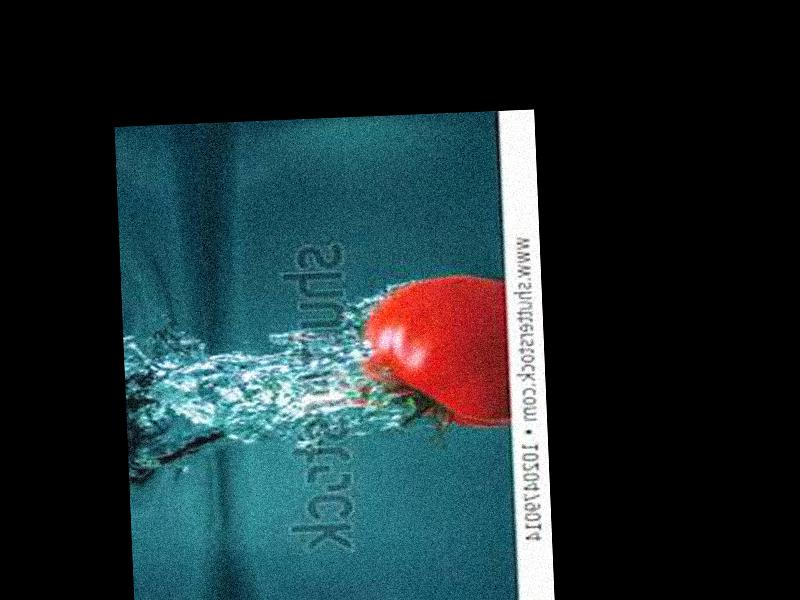Tomato: (361, 274, 511, 433)
